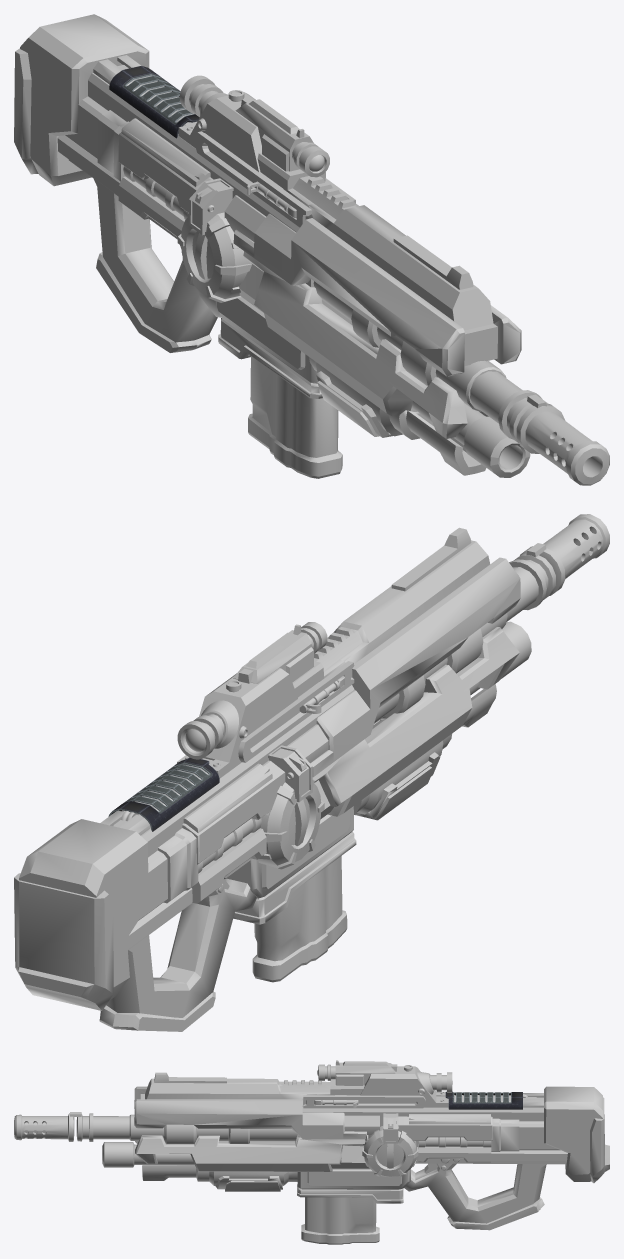
File: zjz_wuqi.FBX
3 views of the same model, one above another, from view 1: azimuth 30°, elevation 25°; view 2: azimuth 150°, elevation 25°; view 3: azimuth 270°, elevation 25° (orthographic). The views are drawn at different scales.
Visible parts, largest first — view 1: Box001; view 2: Box001; view 3: Box001.
Part boxes in pixels (x1,y1,x2,y2): Box001: (14,14,609,485); Box001: (14,514,609,1031); Box001: (14,1060,609,1244).
Bounding box in the file's own units: 5.77 × 16.25 × 48.7.
